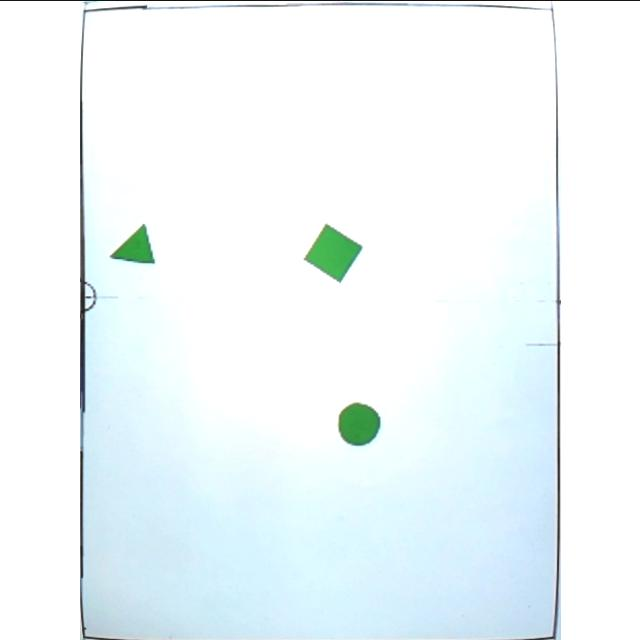greenCircle: (336, 399, 382, 447)
greenSquare: (301, 222, 361, 284)
greenTriangle: (108, 220, 156, 266)
